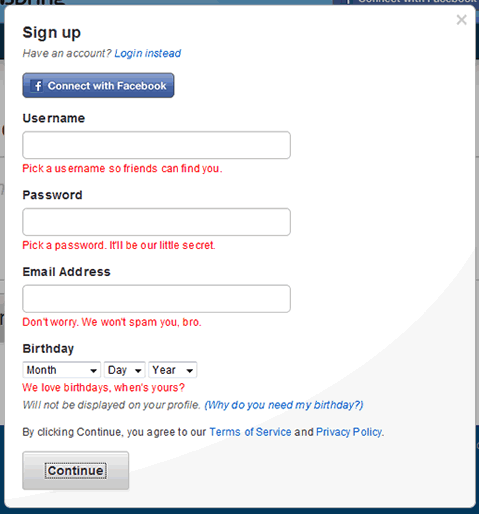error_message: (21, 162, 223, 175), (21, 239, 214, 251), (21, 317, 201, 328), (21, 382, 184, 392)
